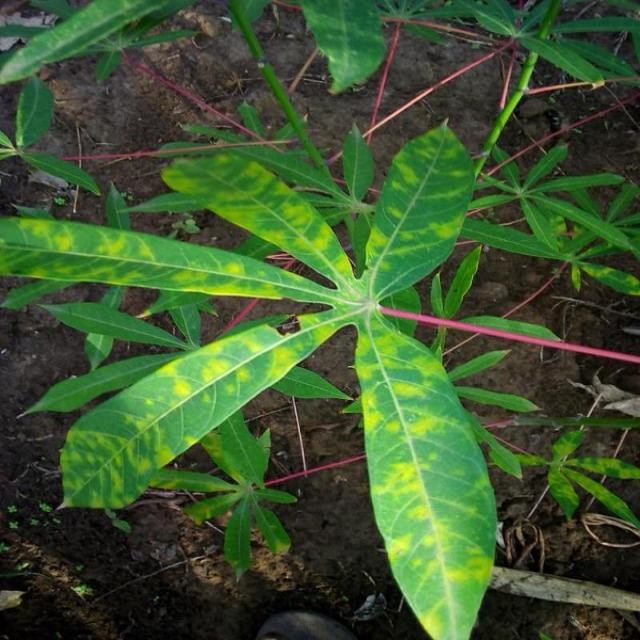cassava leaf: (58, 305, 358, 512), (354, 306, 499, 638), (1, 211, 348, 307), (161, 147, 357, 290), (364, 117, 477, 302)
